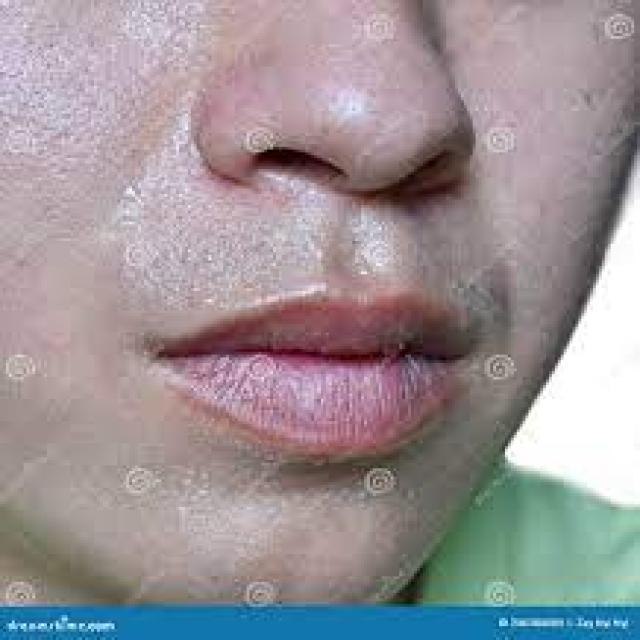oily: (38, 19, 460, 527)
